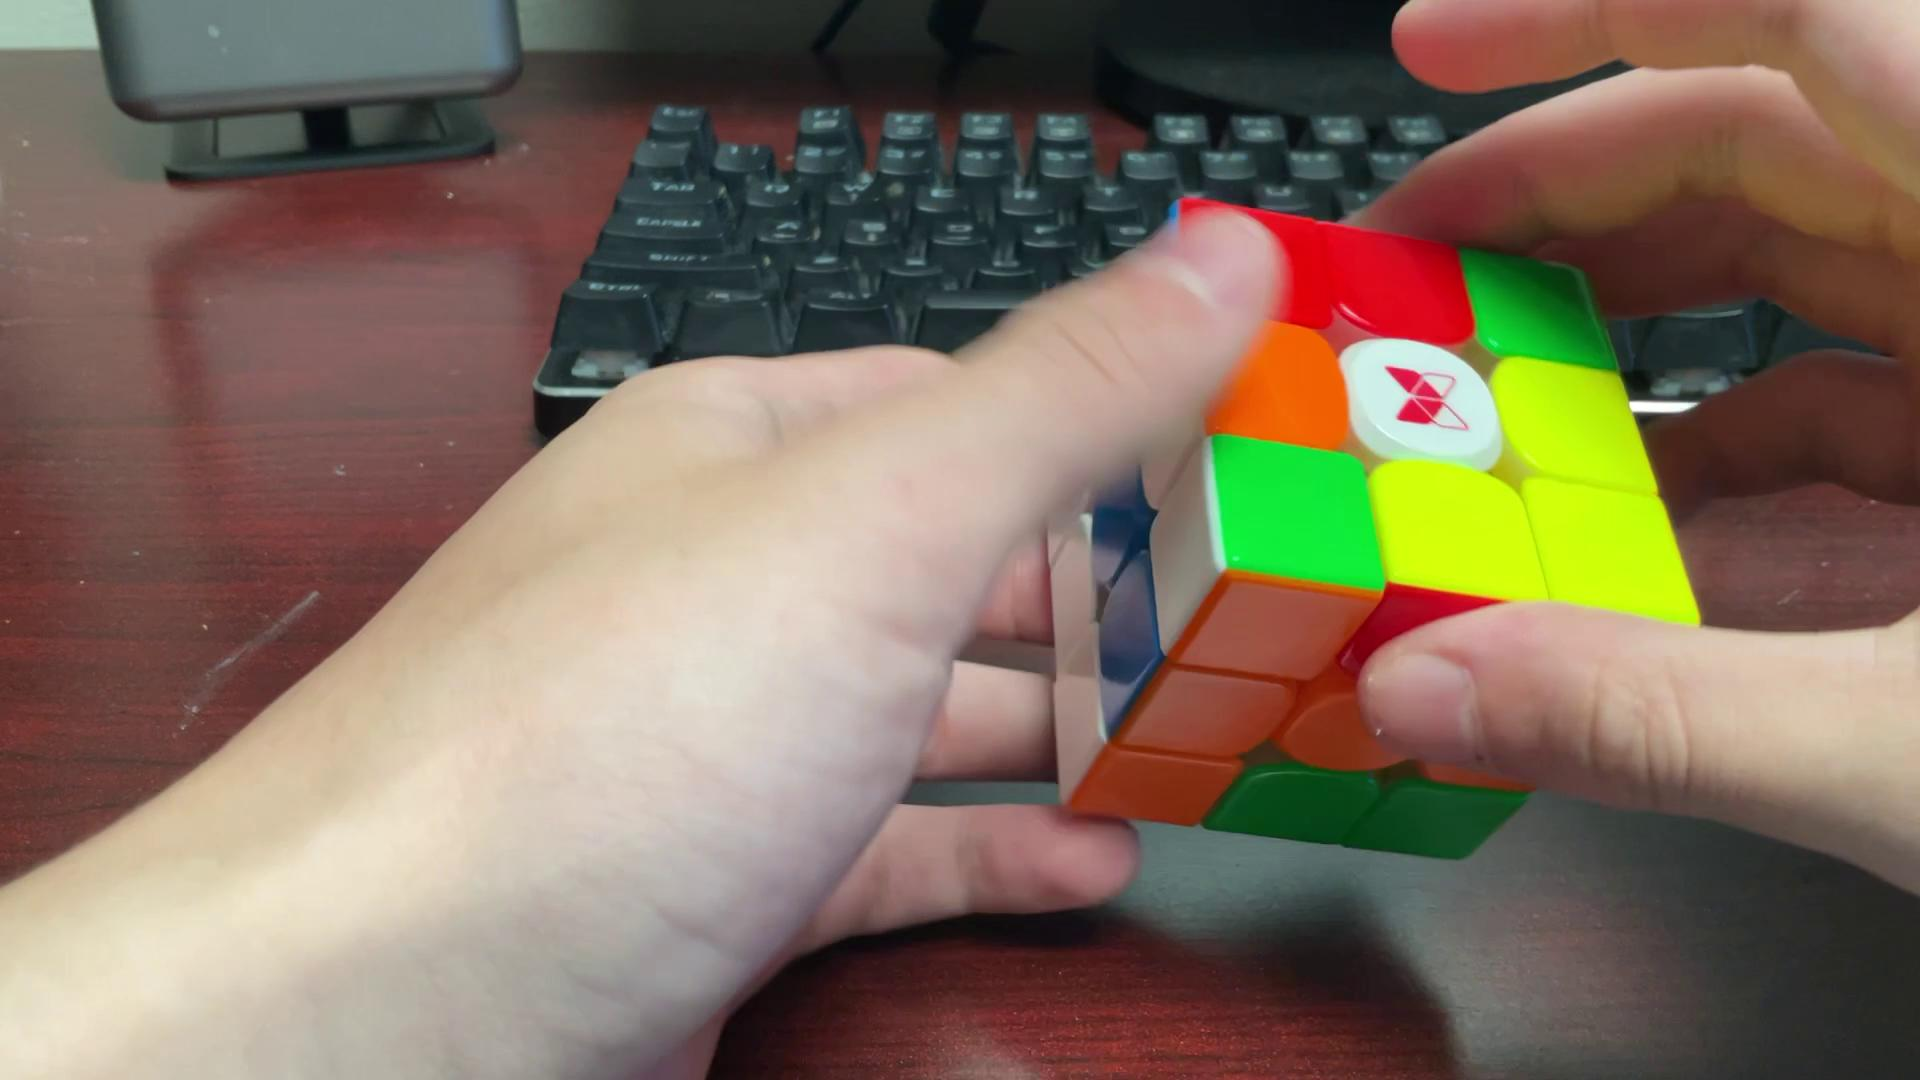Rubiks-Cube: (1014, 186, 1718, 866)
